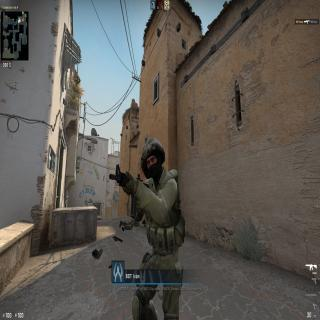CT-Head: (139, 136, 167, 178)
